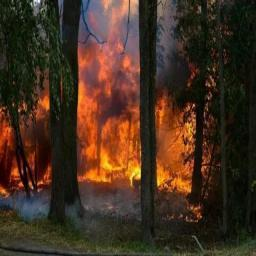Low smoke: (13, 184, 166, 229)
Medium fire: (1, 21, 230, 219)
